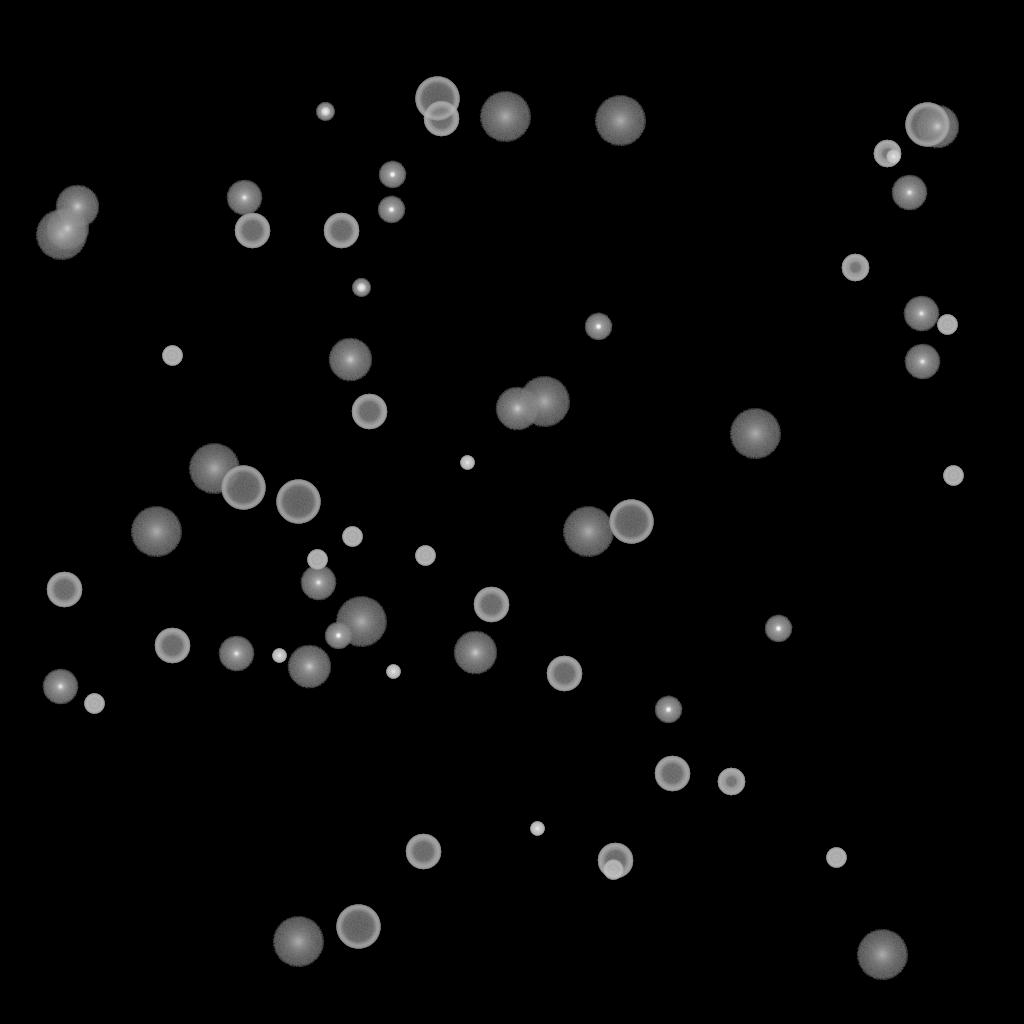depth:-10: (764, 615, 792, 643), (377, 196, 405, 224), (378, 161, 406, 189), (324, 622, 352, 650), (654, 696, 682, 724), (584, 313, 612, 341)
depth:-20: (316, 103, 334, 121), (352, 279, 370, 297)
depth:-30: (886, 150, 900, 164), (272, 649, 286, 663), (460, 456, 474, 470), (530, 822, 544, 836), (386, 665, 400, 679)
depth:-40: (937, 315, 957, 335), (307, 550, 327, 570), (342, 527, 362, 547), (415, 546, 435, 566), (943, 466, 963, 486), (603, 860, 623, 880), (162, 346, 182, 366), (84, 694, 104, 714), (826, 848, 846, 868)
depth:-50: (841, 254, 869, 282), (873, 140, 901, 168), (717, 768, 745, 796)
depth:-60: (473, 587, 509, 623), (351, 394, 387, 430), (234, 213, 270, 249), (597, 843, 633, 879), (405, 834, 441, 870), (323, 213, 359, 249), (154, 628, 190, 664), (654, 756, 690, 792), (46, 572, 82, 608), (423, 101, 459, 137), (546, 656, 582, 692)
depth:-70: (336, 905, 380, 949), (609, 500, 653, 544), (221, 466, 265, 510), (905, 103, 949, 147), (276, 480, 320, 524), (415, 77, 459, 121)
depth:0: (891, 175, 927, 211), (218, 636, 254, 672), (904, 344, 940, 380), (300, 565, 336, 601), (42, 669, 78, 705), (226, 180, 262, 216), (903, 296, 939, 332)
depth:10: (453, 631, 497, 675), (287, 645, 331, 689), (328, 338, 372, 382), (495, 387, 539, 431), (55, 185, 99, 229), (45, 207, 89, 251), (915, 105, 959, 149)
depth:20: (562, 507, 614, 557), (335, 597, 387, 647), (594, 96, 646, 146), (479, 92, 531, 142), (729, 409, 781, 459), (856, 930, 908, 980), (130, 507, 182, 557), (35, 210, 87, 260), (188, 444, 240, 494), (518, 377, 570, 427), (272, 917, 324, 967)
